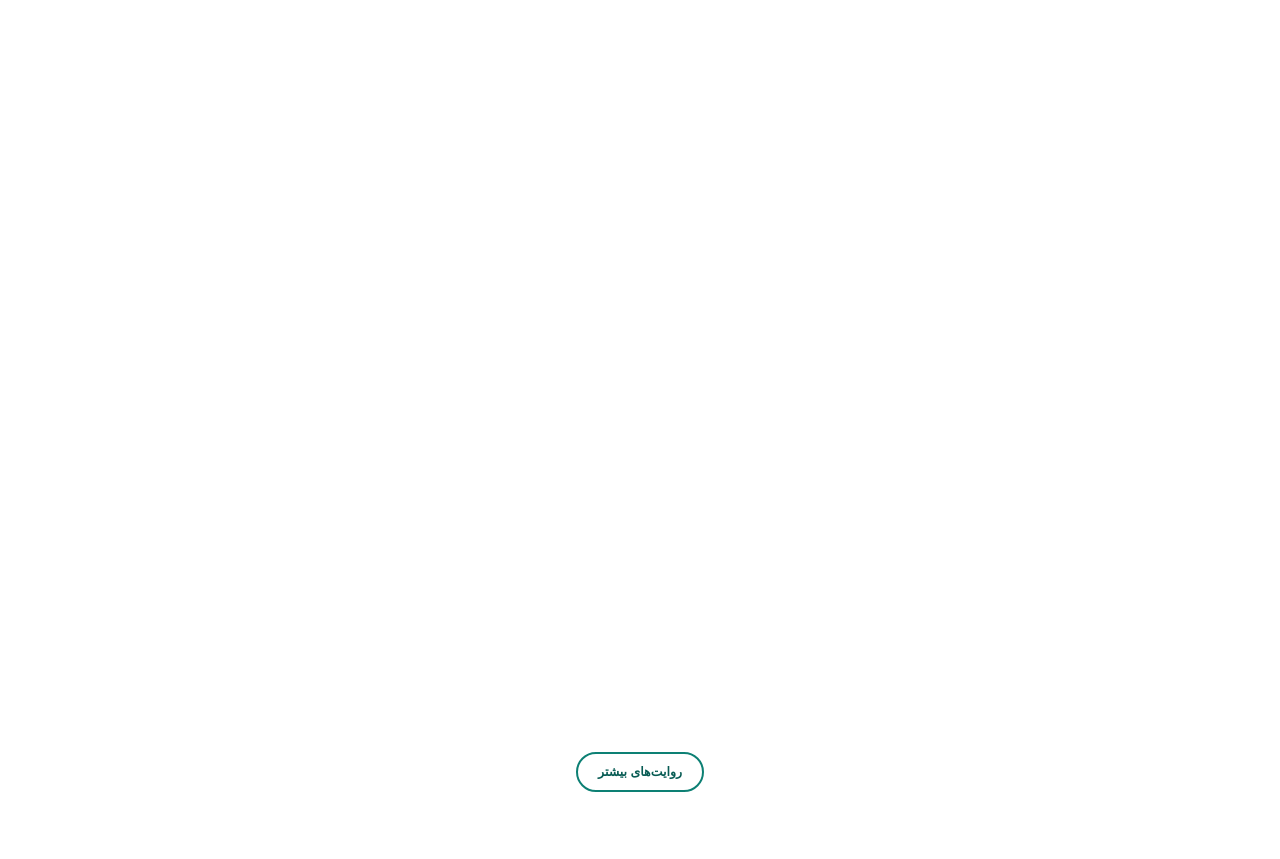
Test: RevayatFeed › تعارض نسخه در صفحه بعد، فقط یک بار از صفحه یک تازه بارگذاری می‌کند
(page scrolled)
What coordinates should you click on to do the following:
click the button "روایت‌های بیشتر"
I would click on:
 (640, 772)
Its box is [576,752,704,792].
(page scrolled)
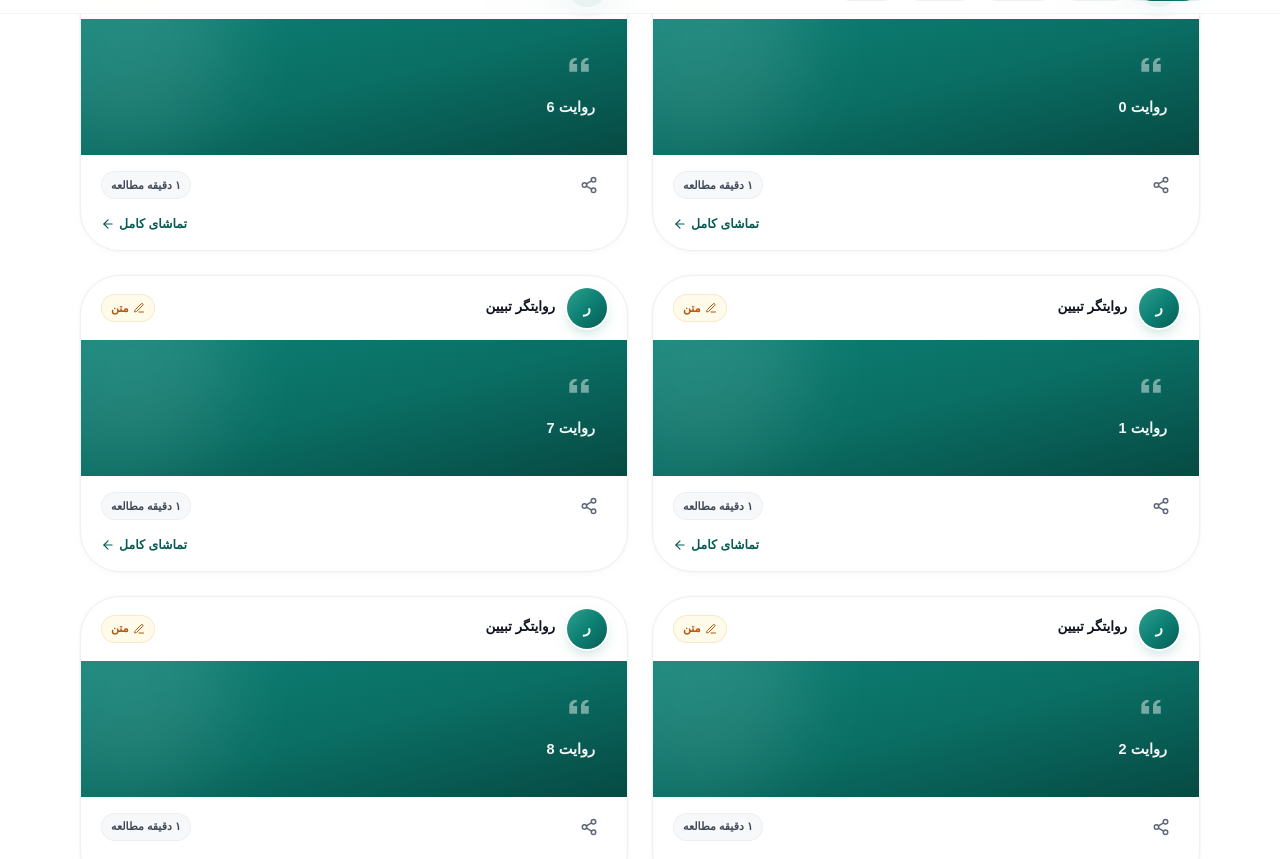
expect the text "روایت 0" is shown: met, box [1119,99,1167,115]
